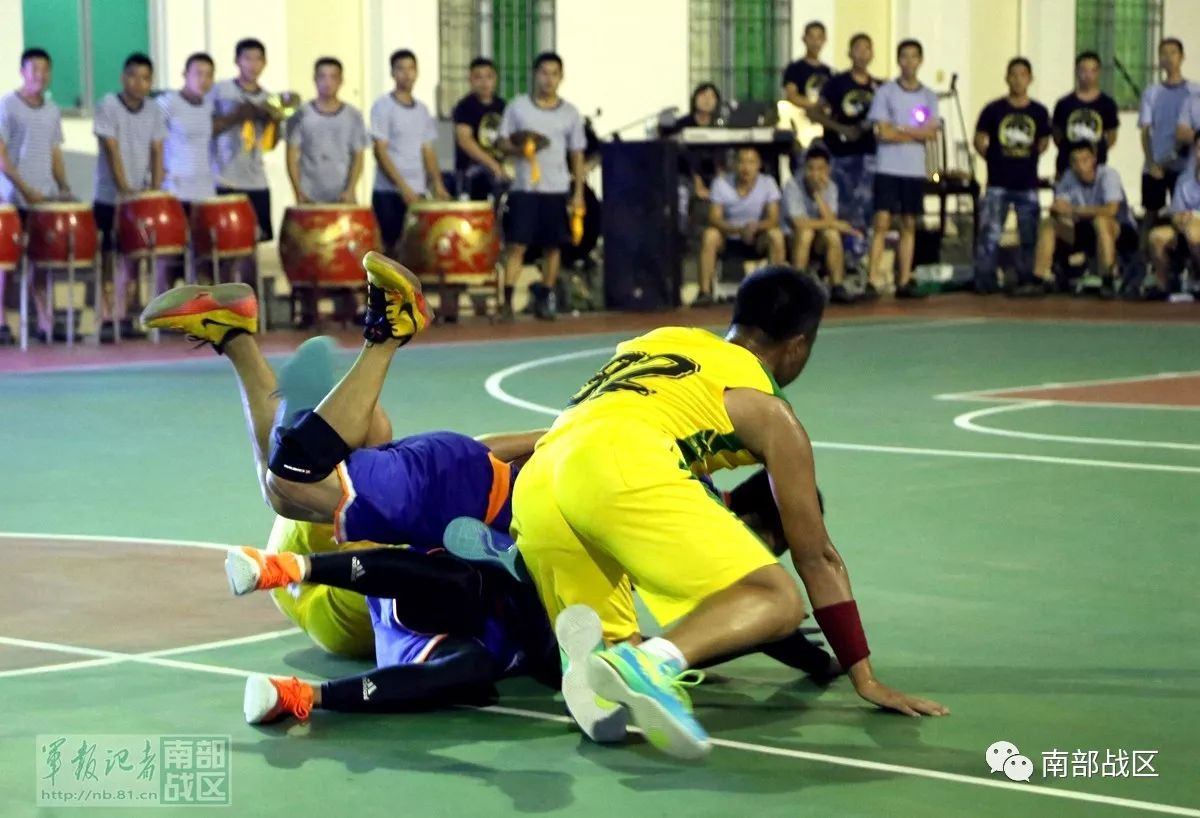10+: (5, 25, 1200, 337)
down: (501, 261, 958, 751), (130, 250, 520, 537), (226, 535, 545, 739)
